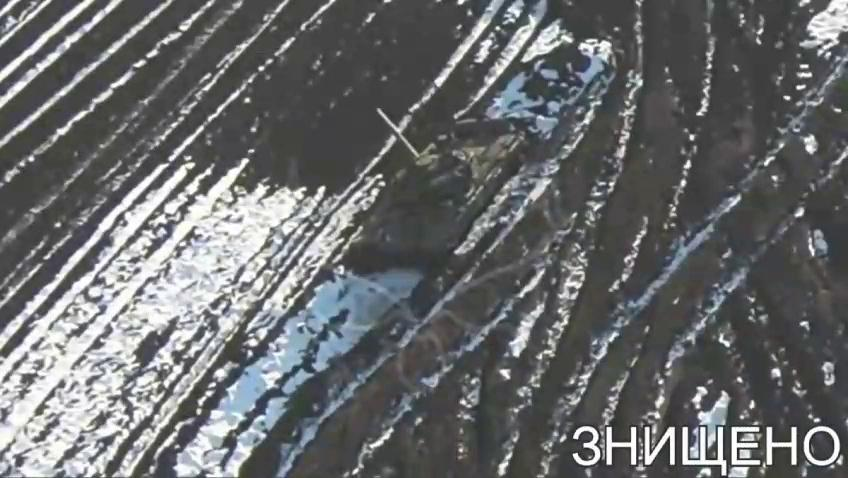tank: (345, 100, 537, 266)
